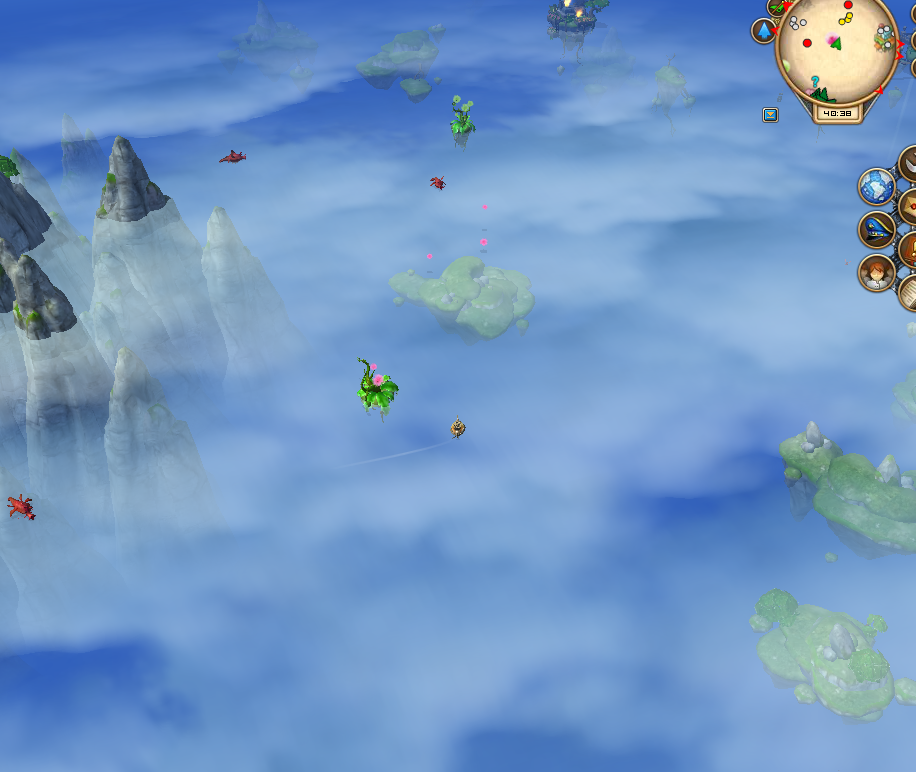dandelion-full: (352, 351, 400, 419), (444, 90, 481, 149)
